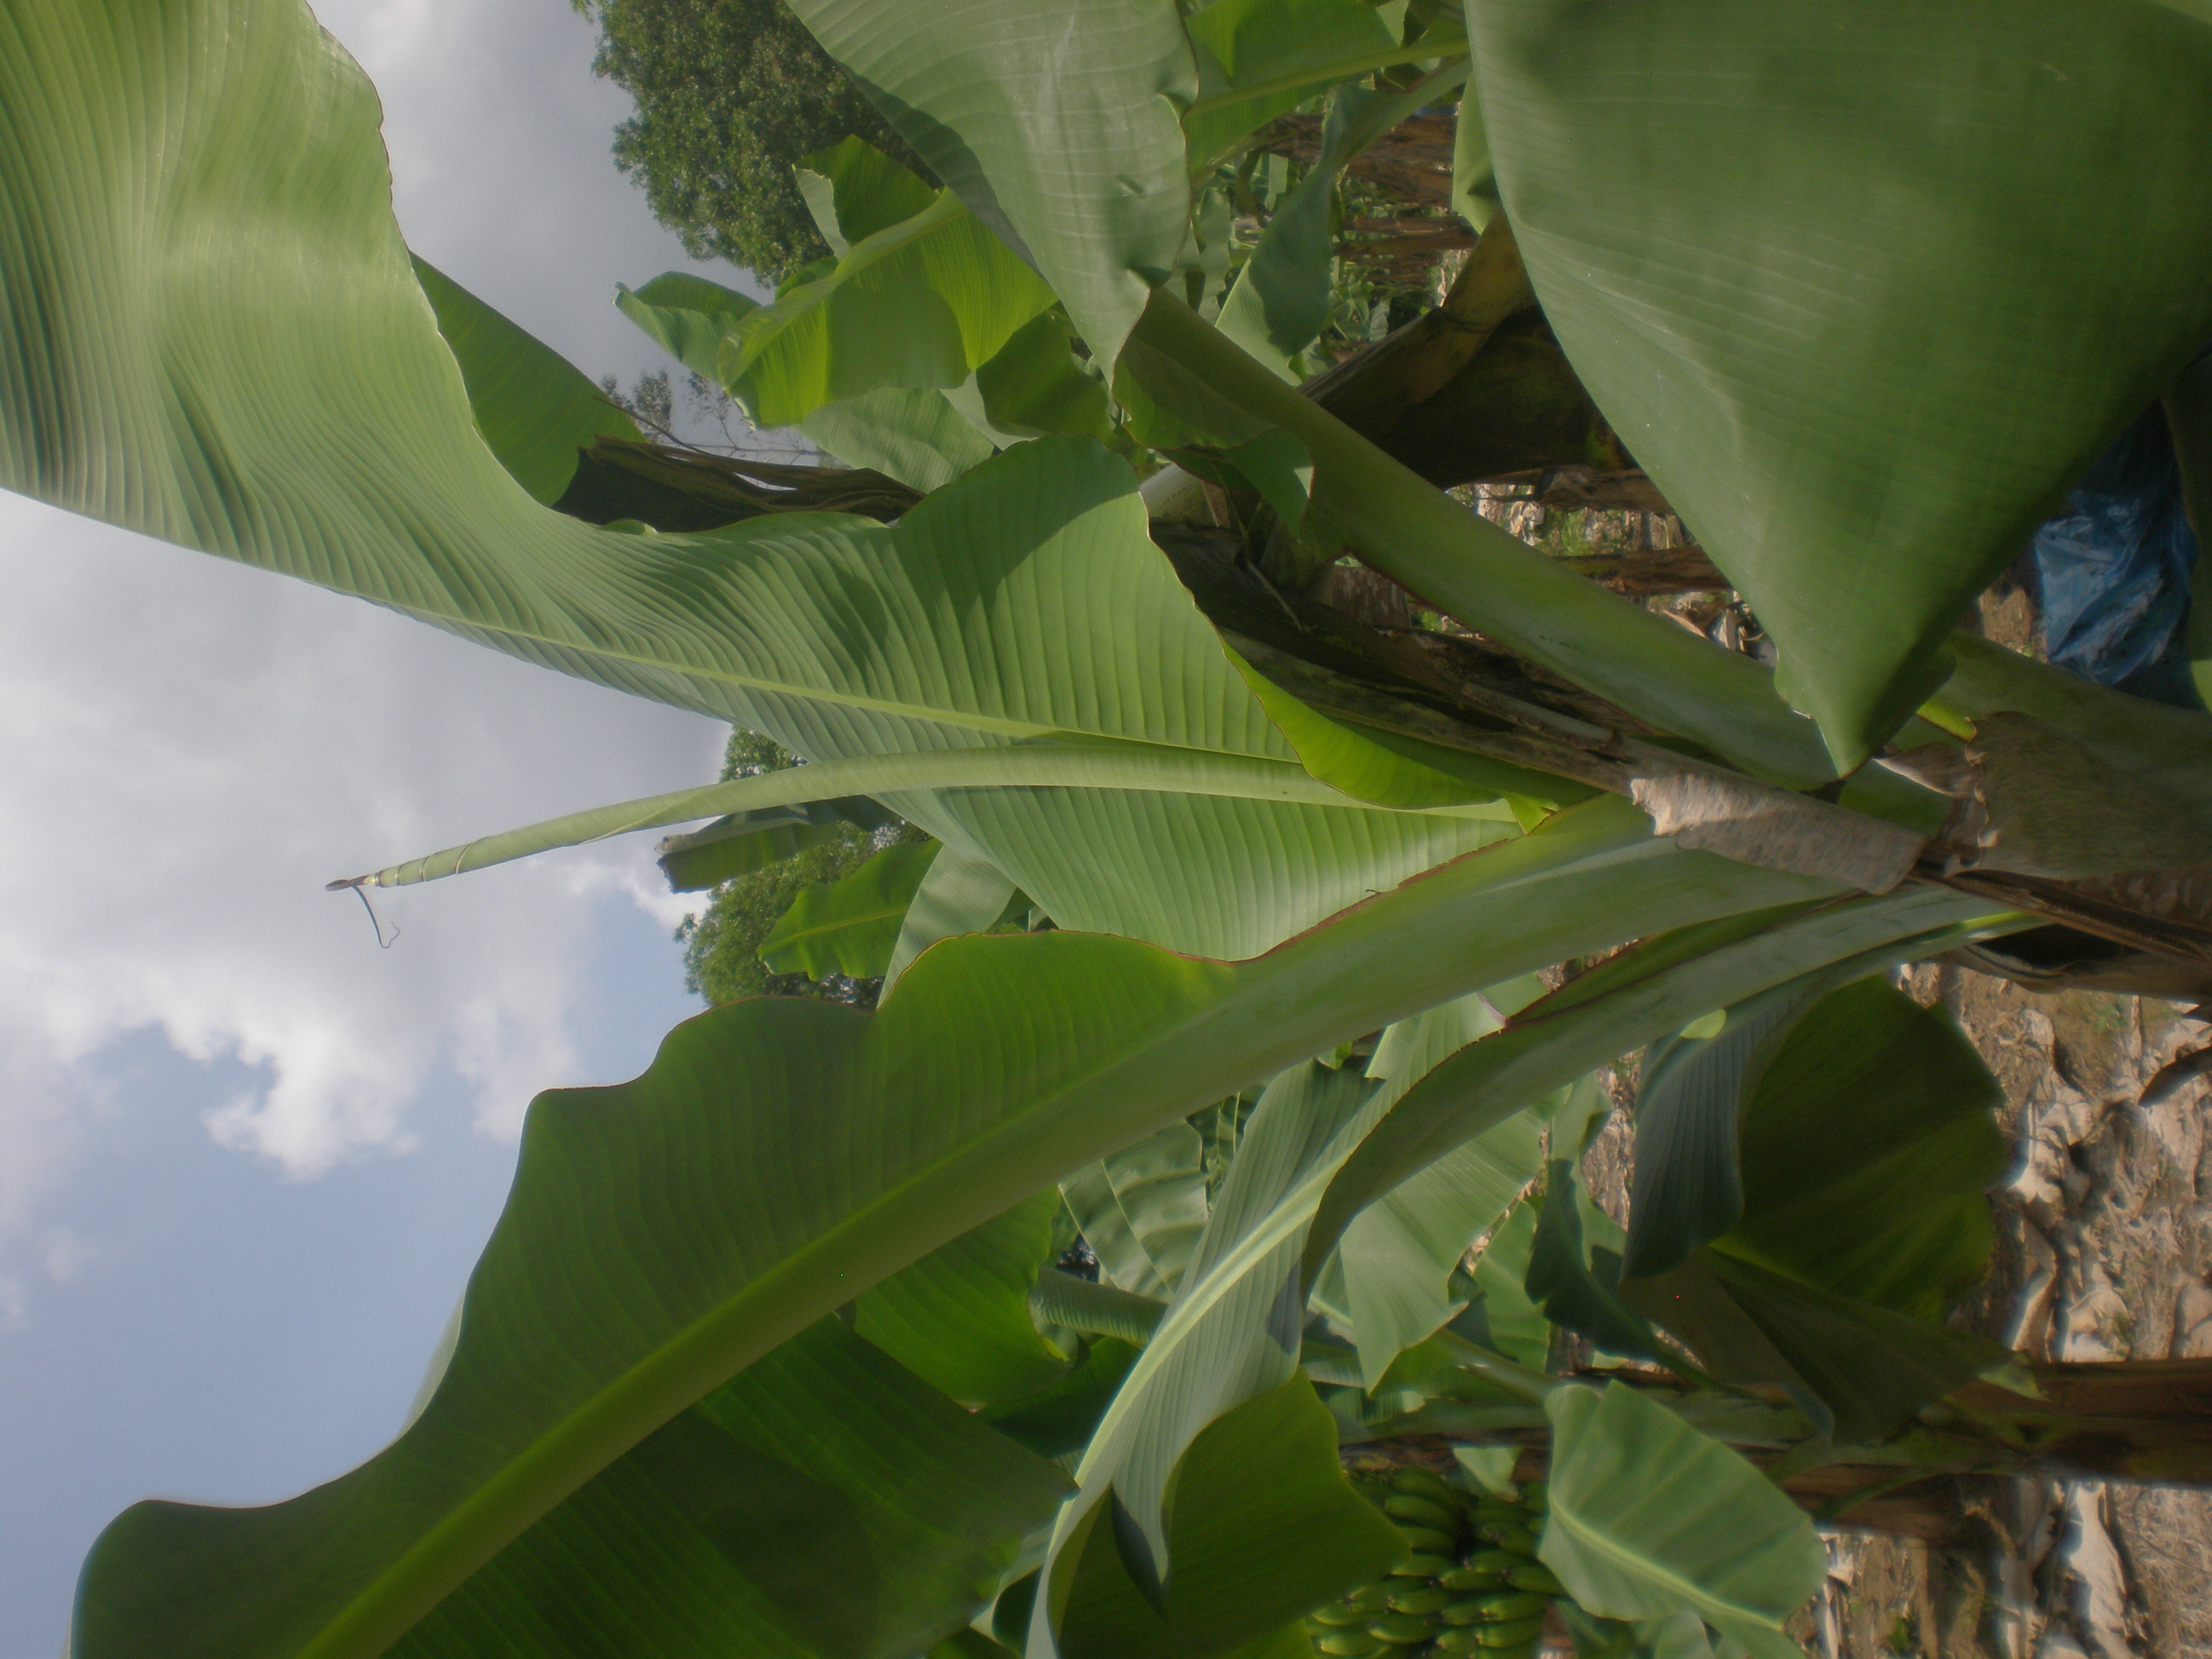candleleafs: (327, 751, 1291, 953)
